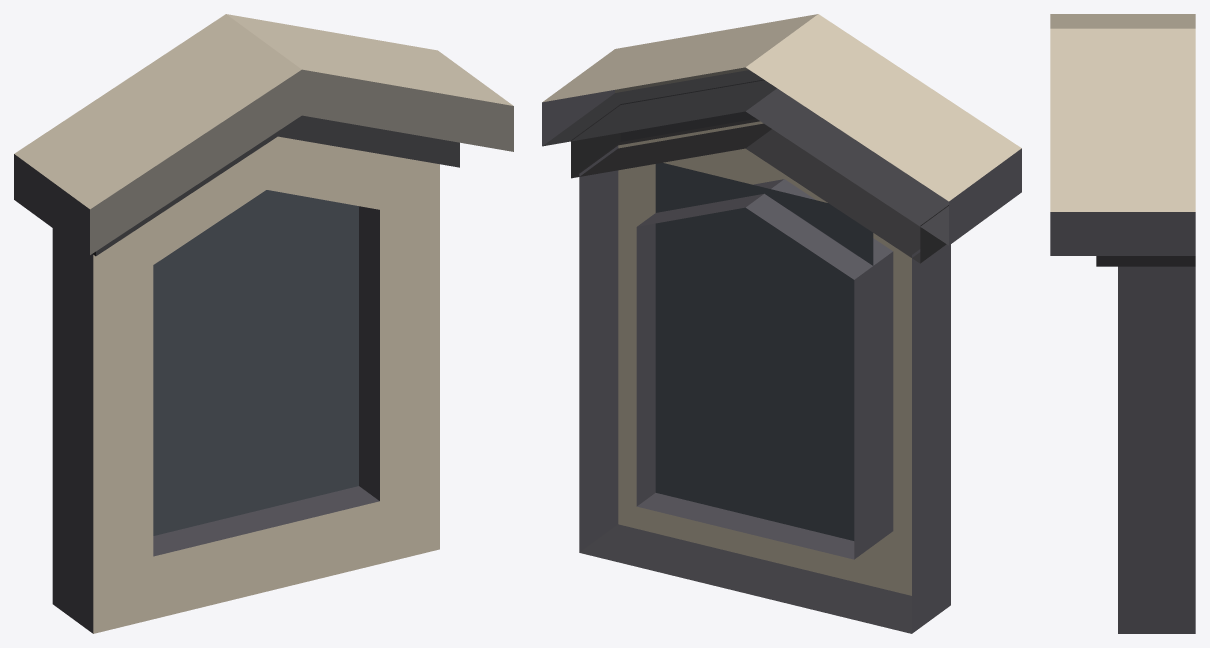
File: TB_CITY_BD_Window_Small_F.FBX
The picture shows the model from 3 angles, left to right: view 1: azimuth 30°, elevation 25°; view 2: azimuth 150°, elevation 25°; view 3: azimuth 270°, elevation 25°; orthographic projection. The views are drawn at different scales.
Parts seen in each view (by area): view 1: TB_CITY_BD_Window_Small_F; view 2: TB_CITY_BD_Window_Small_F; view 3: TB_CITY_BD_Window_Small_F.
Part boxes in pixels (x1,y1,x2,y2): TB_CITY_BD_Window_Small_F: [14, 14, 513, 633]; TB_CITY_BD_Window_Small_F: [542, 14, 1021, 633]; TB_CITY_BD_Window_Small_F: [1050, 14, 1195, 633].
Size of the model in its own units: 1.76 by 2.17 by 0.5459.
